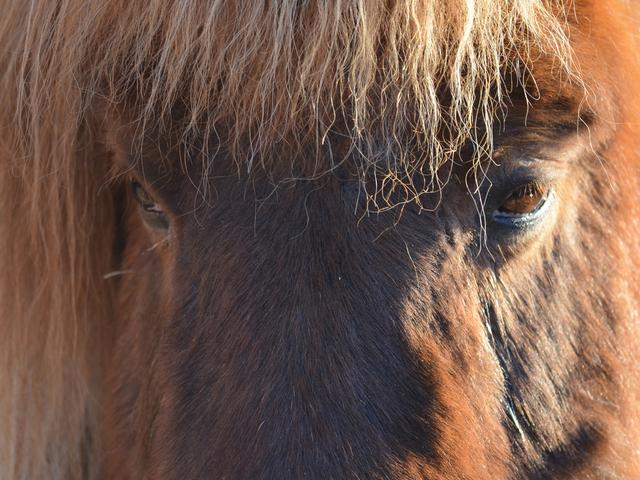horse: (11, 2, 640, 466)
